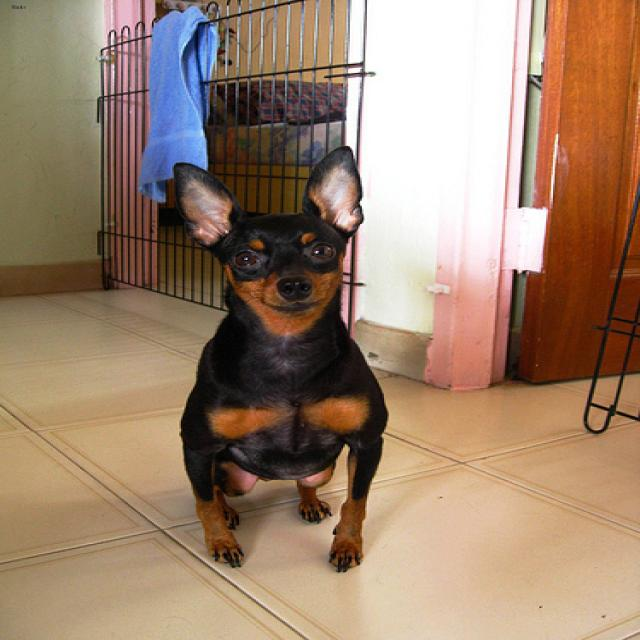dog-miniature_pinscher: (164, 141, 403, 581)
